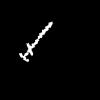double_crochet: (19, 22, 51, 60)
